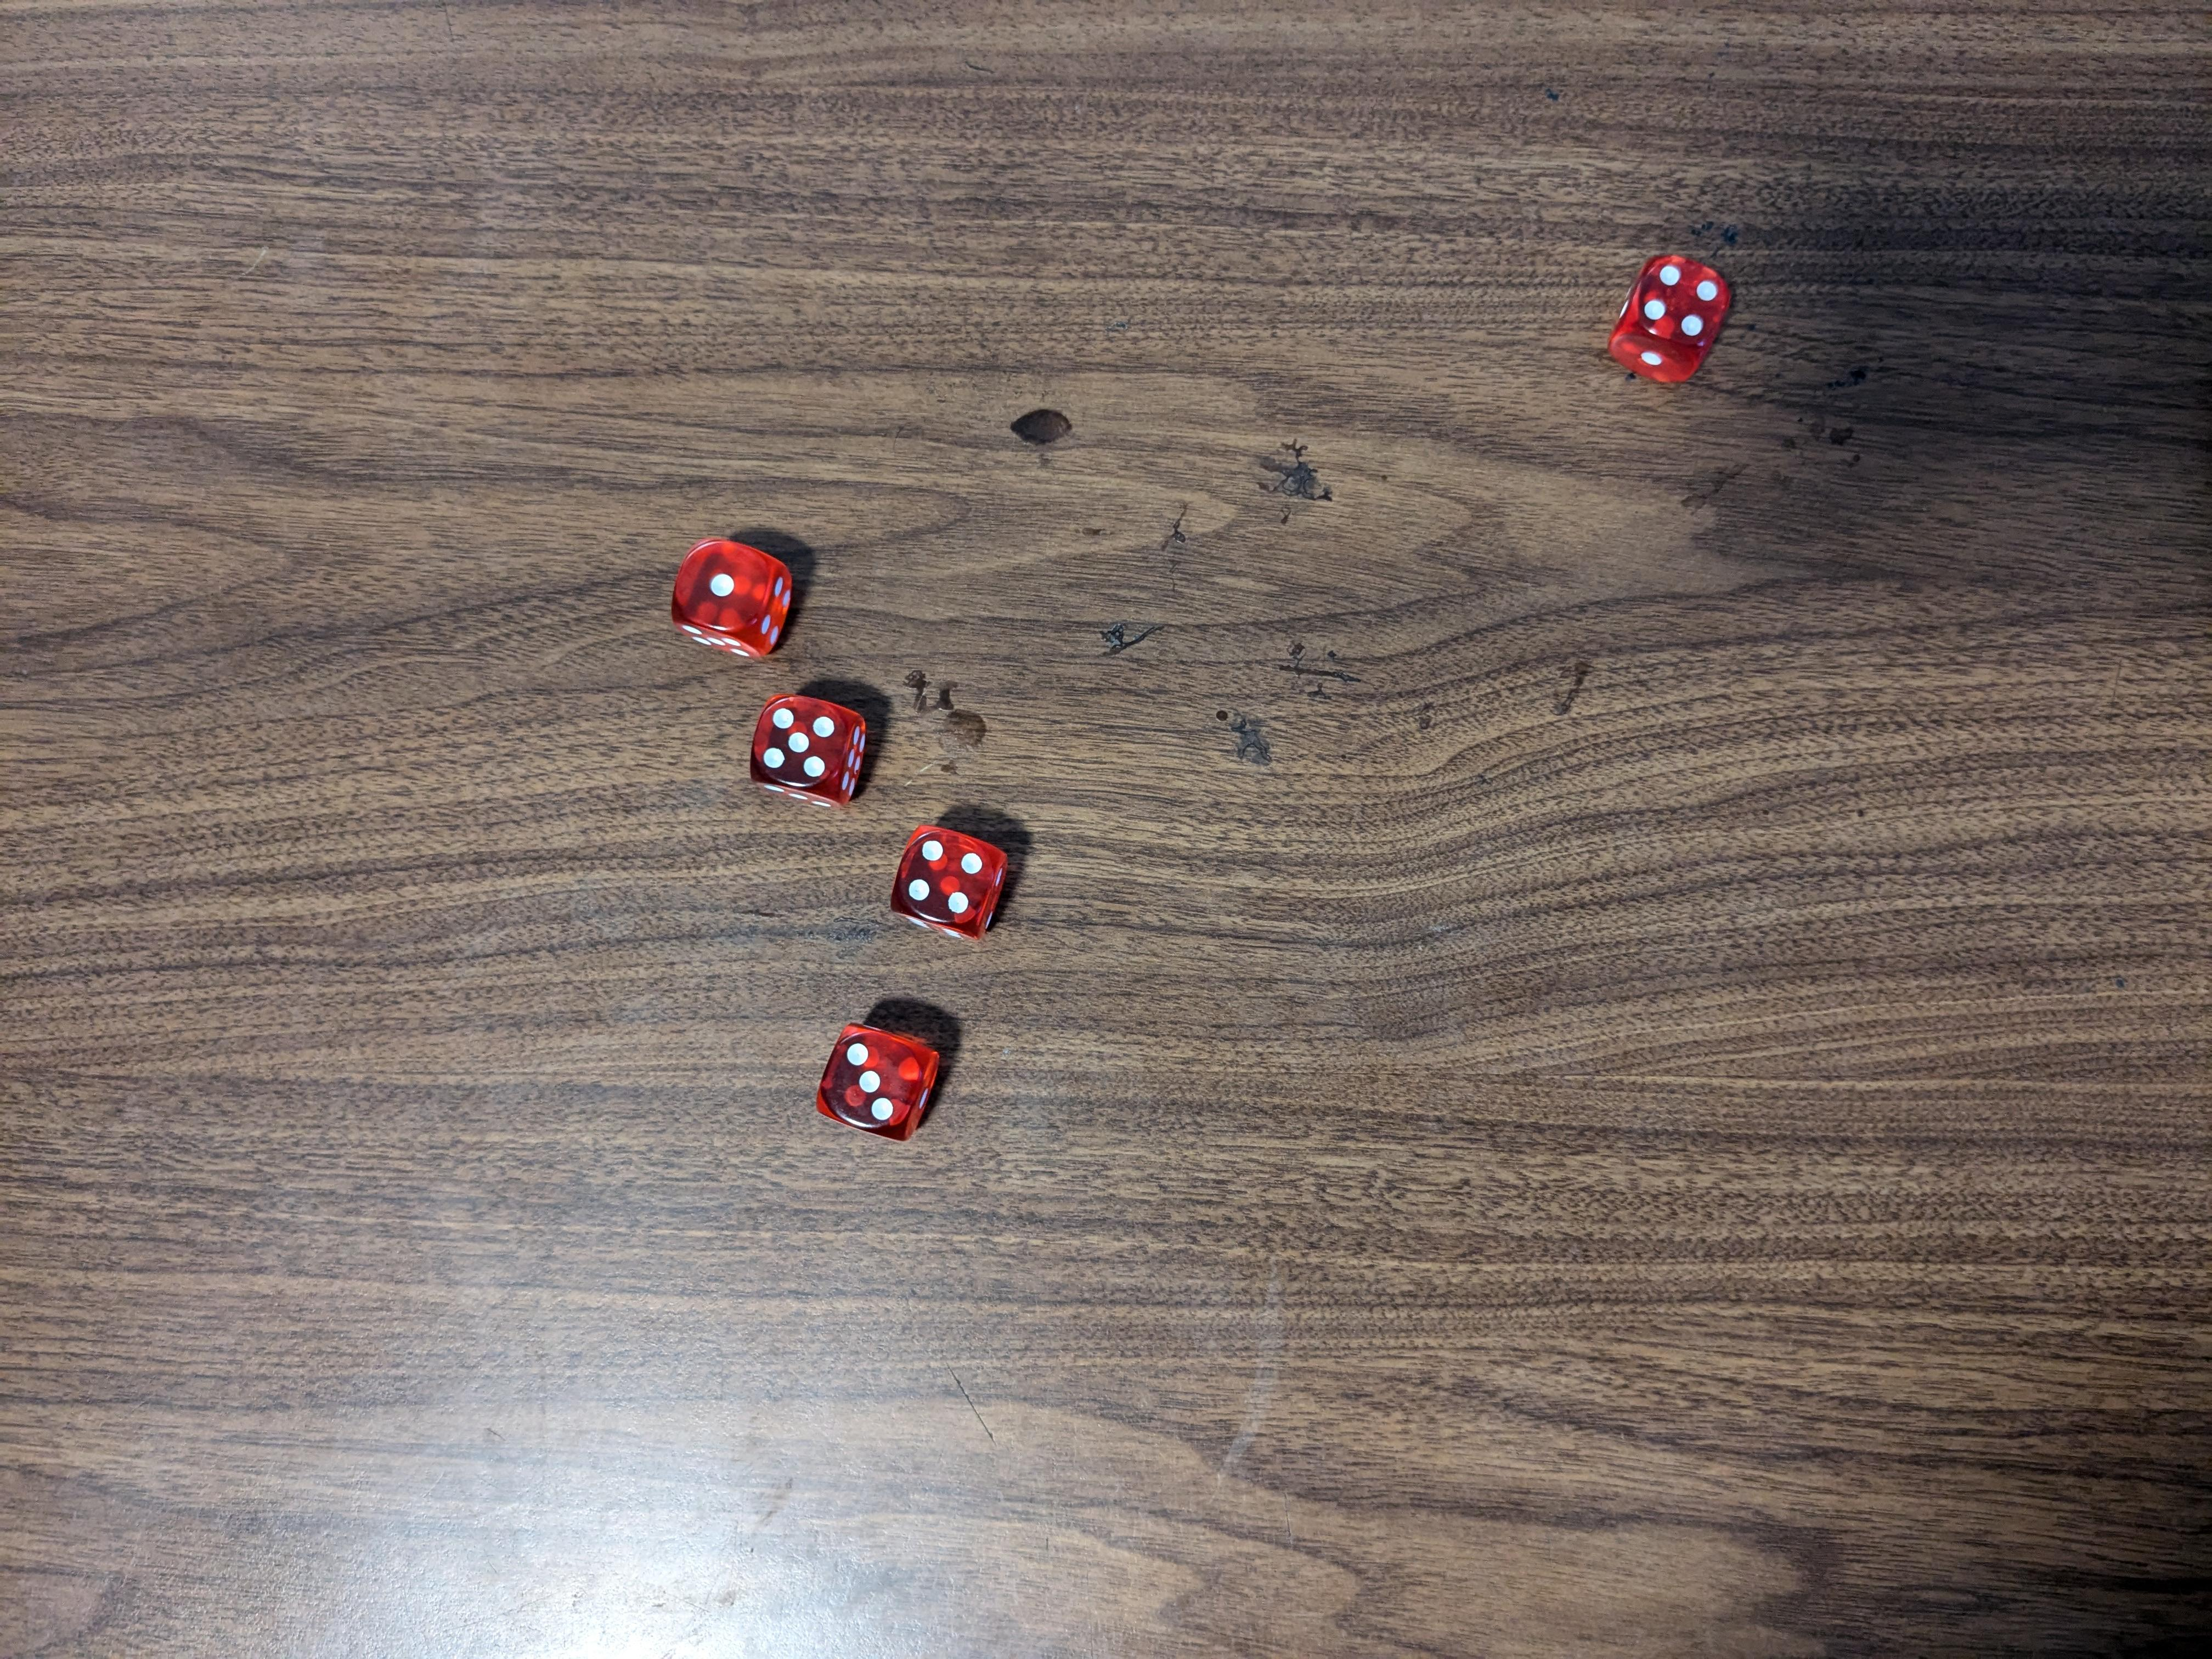five: (744, 685, 871, 812)
four: (1613, 251, 1735, 382), (887, 821, 1008, 943)
one: (665, 535, 798, 660)
three: (813, 1023, 944, 1143)
